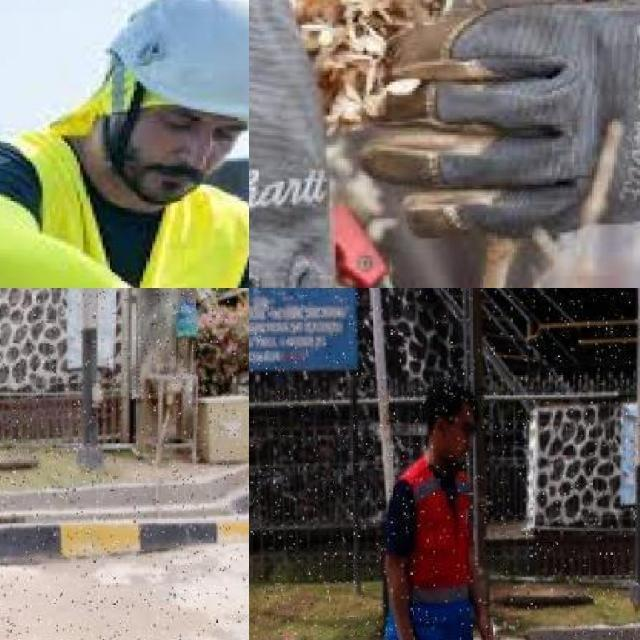apron: (363, 0, 640, 249), (249, 0, 342, 288)
